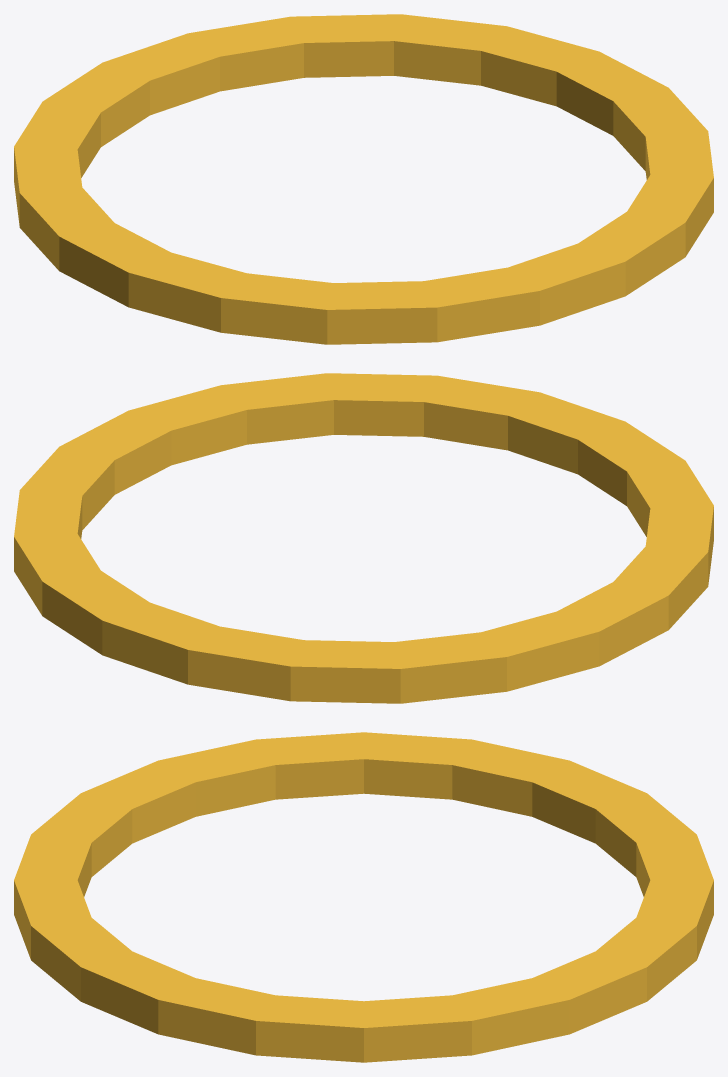
The model's file is Race_Marker.obj.
3 views of the same model, one above another, from view 1: azimuth 30°, elevation 25°; view 2: azimuth 150°, elevation 25°; view 3: azimuth 270°, elevation 25° (orthographic).
Visible parts, largest first — view 1: Race_Marker; view 2: Race_Marker; view 3: Race_Marker.
Part boxes in pixels (bbox=[...]): Race_Marker: bbox=[14, 14, 713, 344]; Race_Marker: bbox=[14, 373, 713, 703]; Race_Marker: bbox=[14, 732, 713, 1062].
Bounding box in the file's own units: 2.2 × 0.12 × 2.2.
